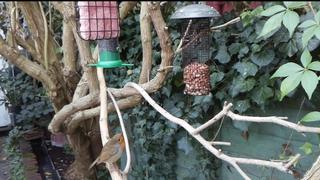robin: (87, 132, 125, 173)
